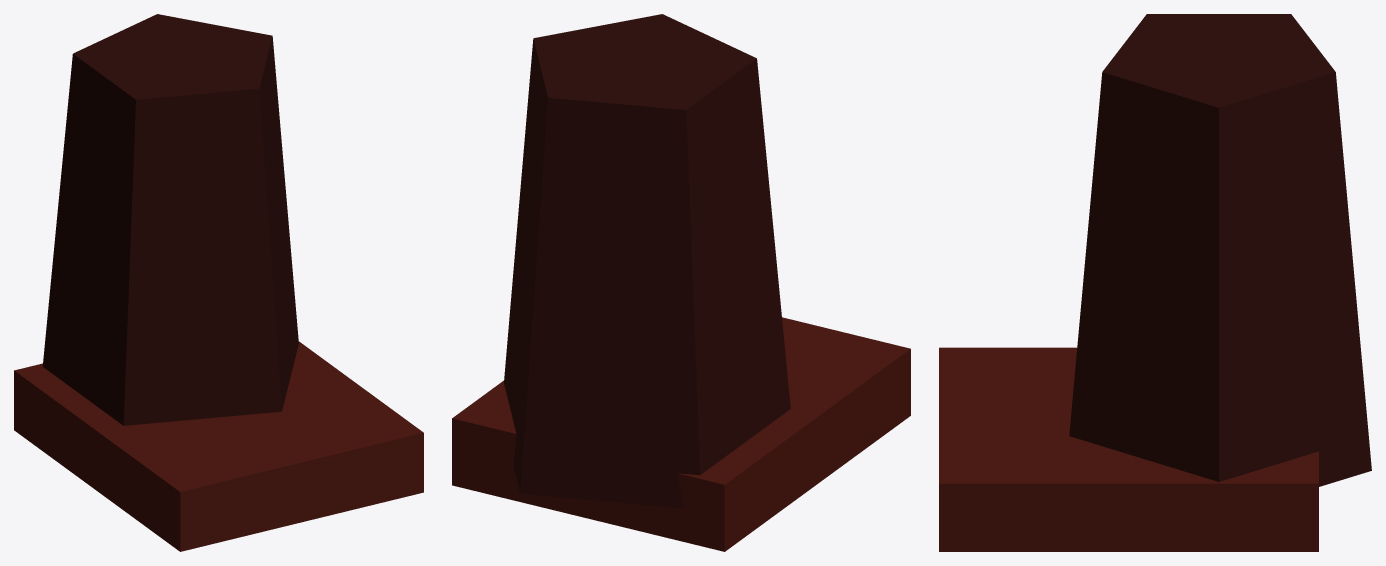
The model's file is dk_mob_imp_leg.glb.
3 views of the same model, side by side, from view 1: azimuth 30°, elevation 25°; view 2: azimuth 150°, elevation 25°; view 3: azimuth 270°, elevation 25° (orthographic). The views are drawn at different scales.
Visible parts, largest first — view 1: dk_mob_imp_leg; view 2: dk_mob_imp_leg; view 3: dk_mob_imp_leg.
Part boxes in pixels (x1,y1,x2,y2): dk_mob_imp_leg: [14, 14, 423, 551]; dk_mob_imp_leg: [452, 14, 910, 551]; dk_mob_imp_leg: [939, 14, 1371, 551].
Size of the model in its own units: 0.286 by 0.42 by 0.385.
Materials: 1 (1 with a texture image).
